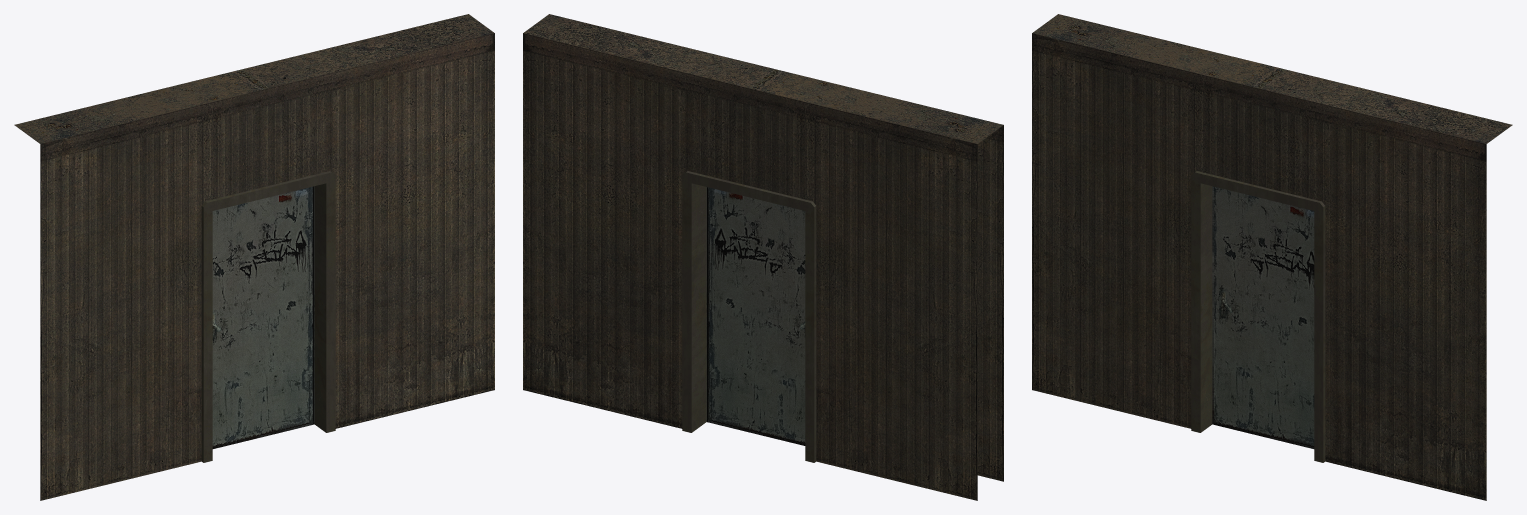
Rendered from doorway_rx_1.glb.
The picture shows the model from 3 angles, left to right: view 1: azimuth 30°, elevation 25°; view 2: azimuth 150°, elevation 25°; view 3: azimuth 330°, elevation 25°; orthographic projection.
Visible parts, largest first — view 1: doorway_rx_1, door_hr_11; view 2: doorway_rx_1, door_hr_11; view 3: doorway_rx_1, door_hr_11.
Part boxes in pixels (x1,y1,x2,y2): doorway_rx_1: [14, 14, 494, 500]; door_hr_11: [212, 186, 314, 448]; doorway_rx_1: [523, 14, 1003, 500]; door_hr_11: [706, 187, 805, 445]; doorway_rx_1: [1032, 14, 1512, 500]; door_hr_11: [1212, 186, 1314, 448].
Bounding box in the file's own units: 4 × 3 × 0.46.
4 materials, 4 textured.
